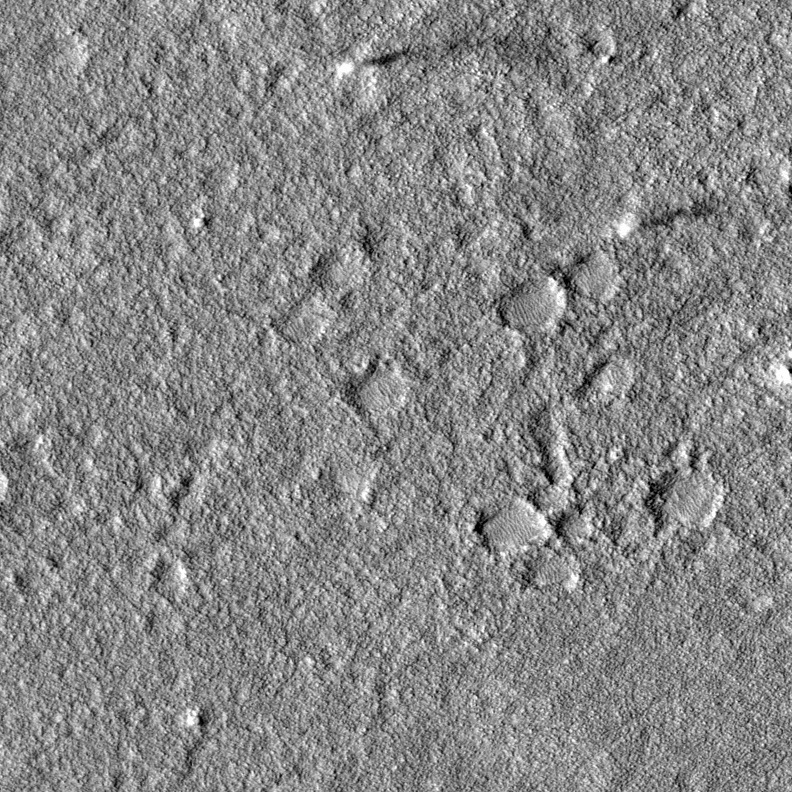dust_devil: (332, 29, 578, 104), (614, 197, 719, 240)
